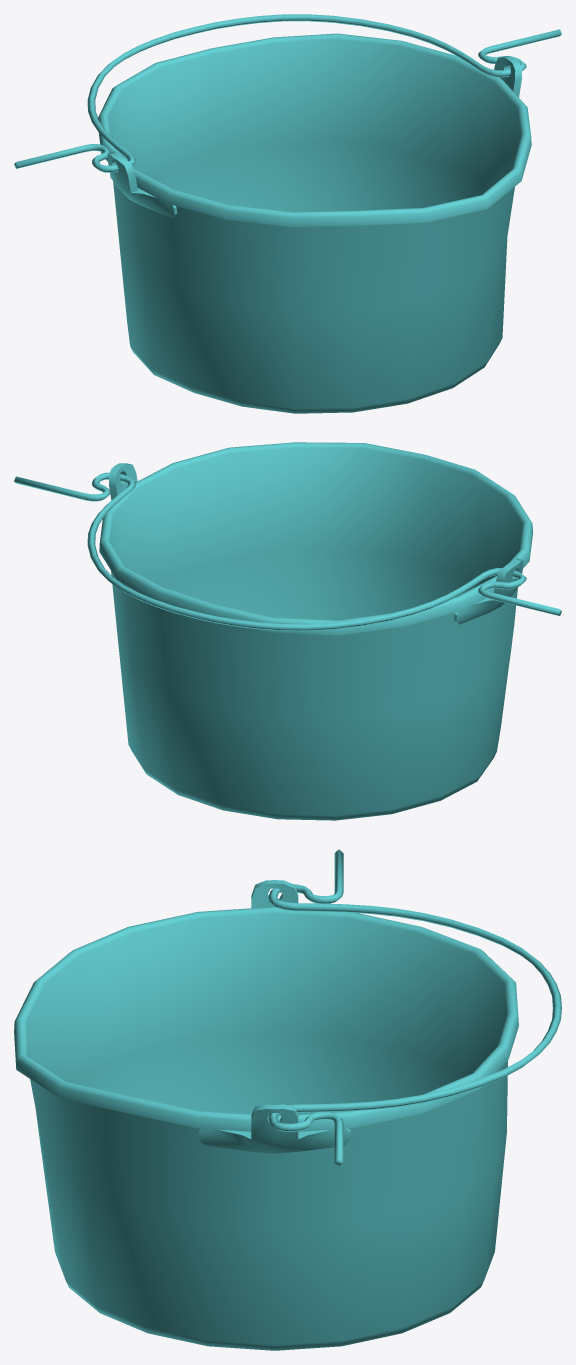
Rendered from MarmitteCuivre.FBX.
3 views of the same model, one above another, from view 1: azimuth 30°, elevation 25°; view 2: azimuth 150°, elevation 25°; view 3: azimuth 270°, elevation 25° (orthographic). The views are drawn at different scales.
Size of the model in its own units: 68.79 by 27.74 by 51.5.
